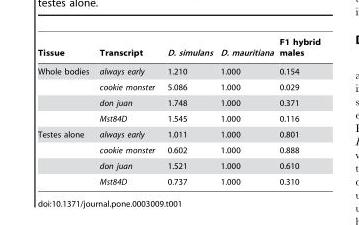table: (37, 37, 319, 185)
table column: (93, 37, 160, 185), (216, 37, 276, 185), (37, 37, 93, 185), (160, 37, 216, 185), (276, 37, 319, 185)
table column header: (37, 37, 319, 61)
table row: (37, 37, 319, 61), (37, 61, 319, 79), (37, 94, 319, 110), (37, 110, 319, 126), (37, 126, 319, 142), (37, 157, 319, 173), (37, 79, 319, 94), (37, 142, 319, 157), (37, 173, 319, 185)
table spanning cell: (37, 61, 93, 126), (37, 126, 93, 185)
